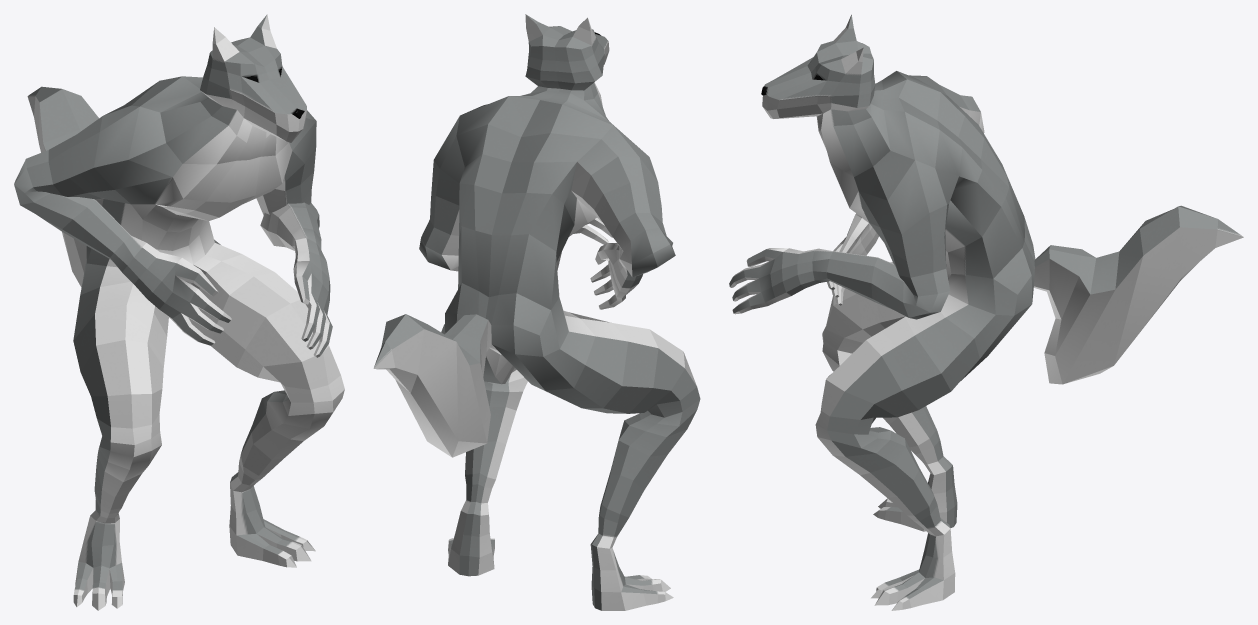
File: WolfIdle_(20).obj
The picture shows the model from 3 angles, left to right: view 1: azimuth 30°, elevation 25°; view 2: azimuth 150°, elevation 25°; view 3: azimuth 270°, elevation 25°; orthographic projection. The views are drawn at different scales.
Parts seen in each view (by area): view 1: Box001; view 2: Box001; view 3: Box001.
Boxes of the visible parts, left/top/right/bottom form: Box001: left=14, top=14, right=344, bottom=610; Box001: left=373, top=14, right=700, bottom=610; Box001: left=729, top=14, right=1243, bottom=610.
Size of the model in its own units: 68.29 by 133 by 114.
